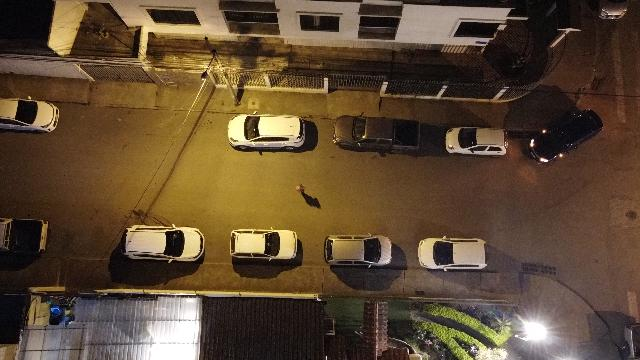Vehiculo: (528, 108, 604, 164), (332, 114, 420, 154), (121, 224, 205, 264), (227, 114, 305, 150), (418, 236, 488, 272), (324, 234, 392, 267), (0, 97, 60, 133), (230, 228, 296, 260), (444, 127, 508, 157), (0, 218, 50, 254)
